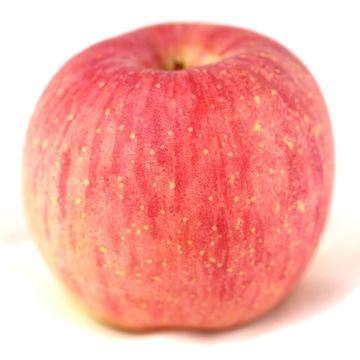apple: (21, 19, 335, 333)
